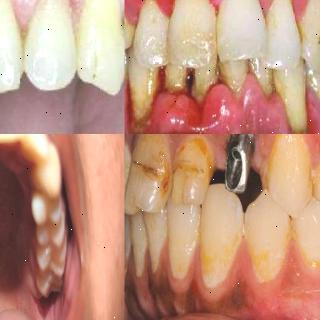Gum Swelling: (141, 76, 290, 134), (166, 242, 269, 304)
calculus: (204, 61, 234, 103), (265, 64, 291, 102), (176, 59, 200, 99), (125, 106, 157, 134), (283, 118, 315, 134)
plaque: (262, 134, 308, 196), (202, 231, 238, 294), (245, 226, 285, 278), (169, 224, 196, 280), (307, 163, 320, 195)
stains: (294, 222, 320, 280), (14, 22, 39, 73), (290, 16, 313, 53)
